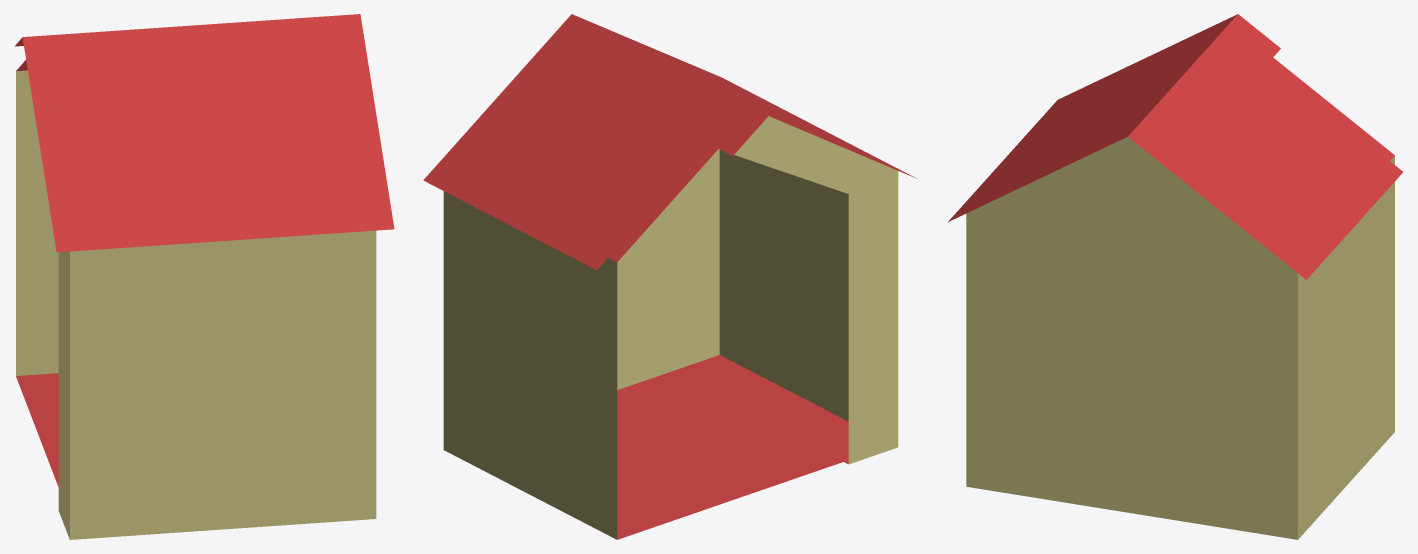
The picture shows the model from 3 angles, left to right: view 1: azimuth 30°, elevation 25°; view 2: azimuth 150°, elevation 25°; view 3: azimuth 270°, elevation 25°; orthographic projection. The views are drawn at different scales.
Bounding box in the file's own units: 14.68 × 15.7 × 14.53.
